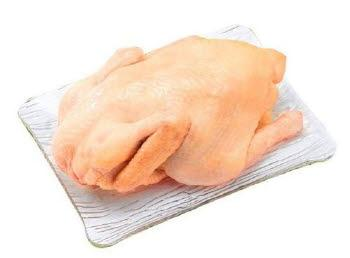chicken: (28, 14, 167, 78)
